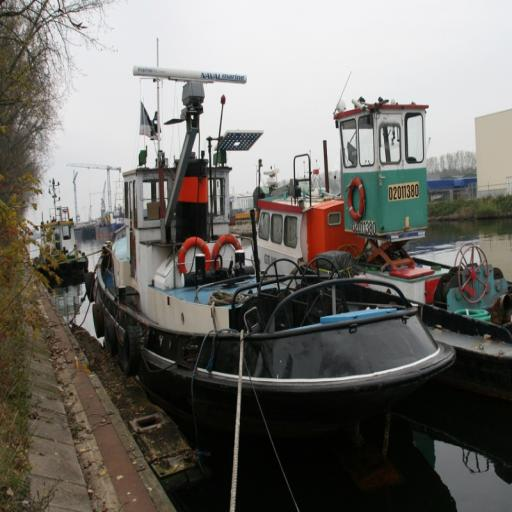tugboat: (83, 59, 460, 467)
